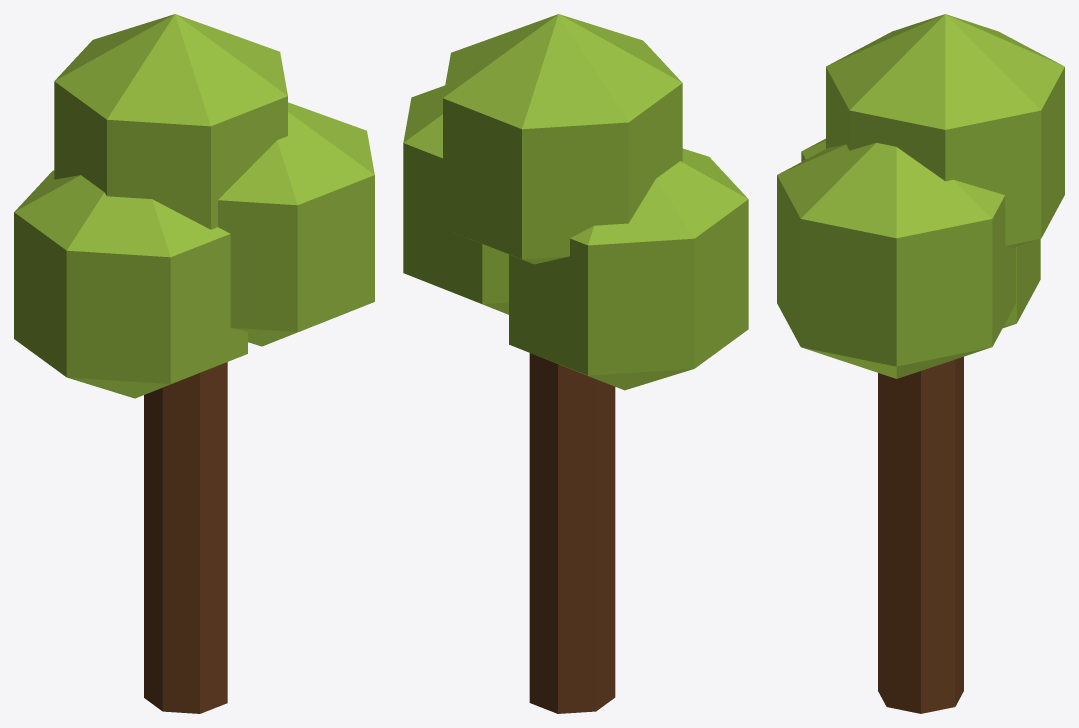
The model's file is birch.obj.
3 views of the same model, side by side, from view 1: azimuth 30°, elevation 25°; view 2: azimuth 150°, elevation 25°; view 3: azimuth 270°, elevation 25° (orthographic). The views are drawn at different scales.
Size of the model in its own units: 1.5 by 3.08 by 1.18.
Materials: 3 (3 with a texture image).
